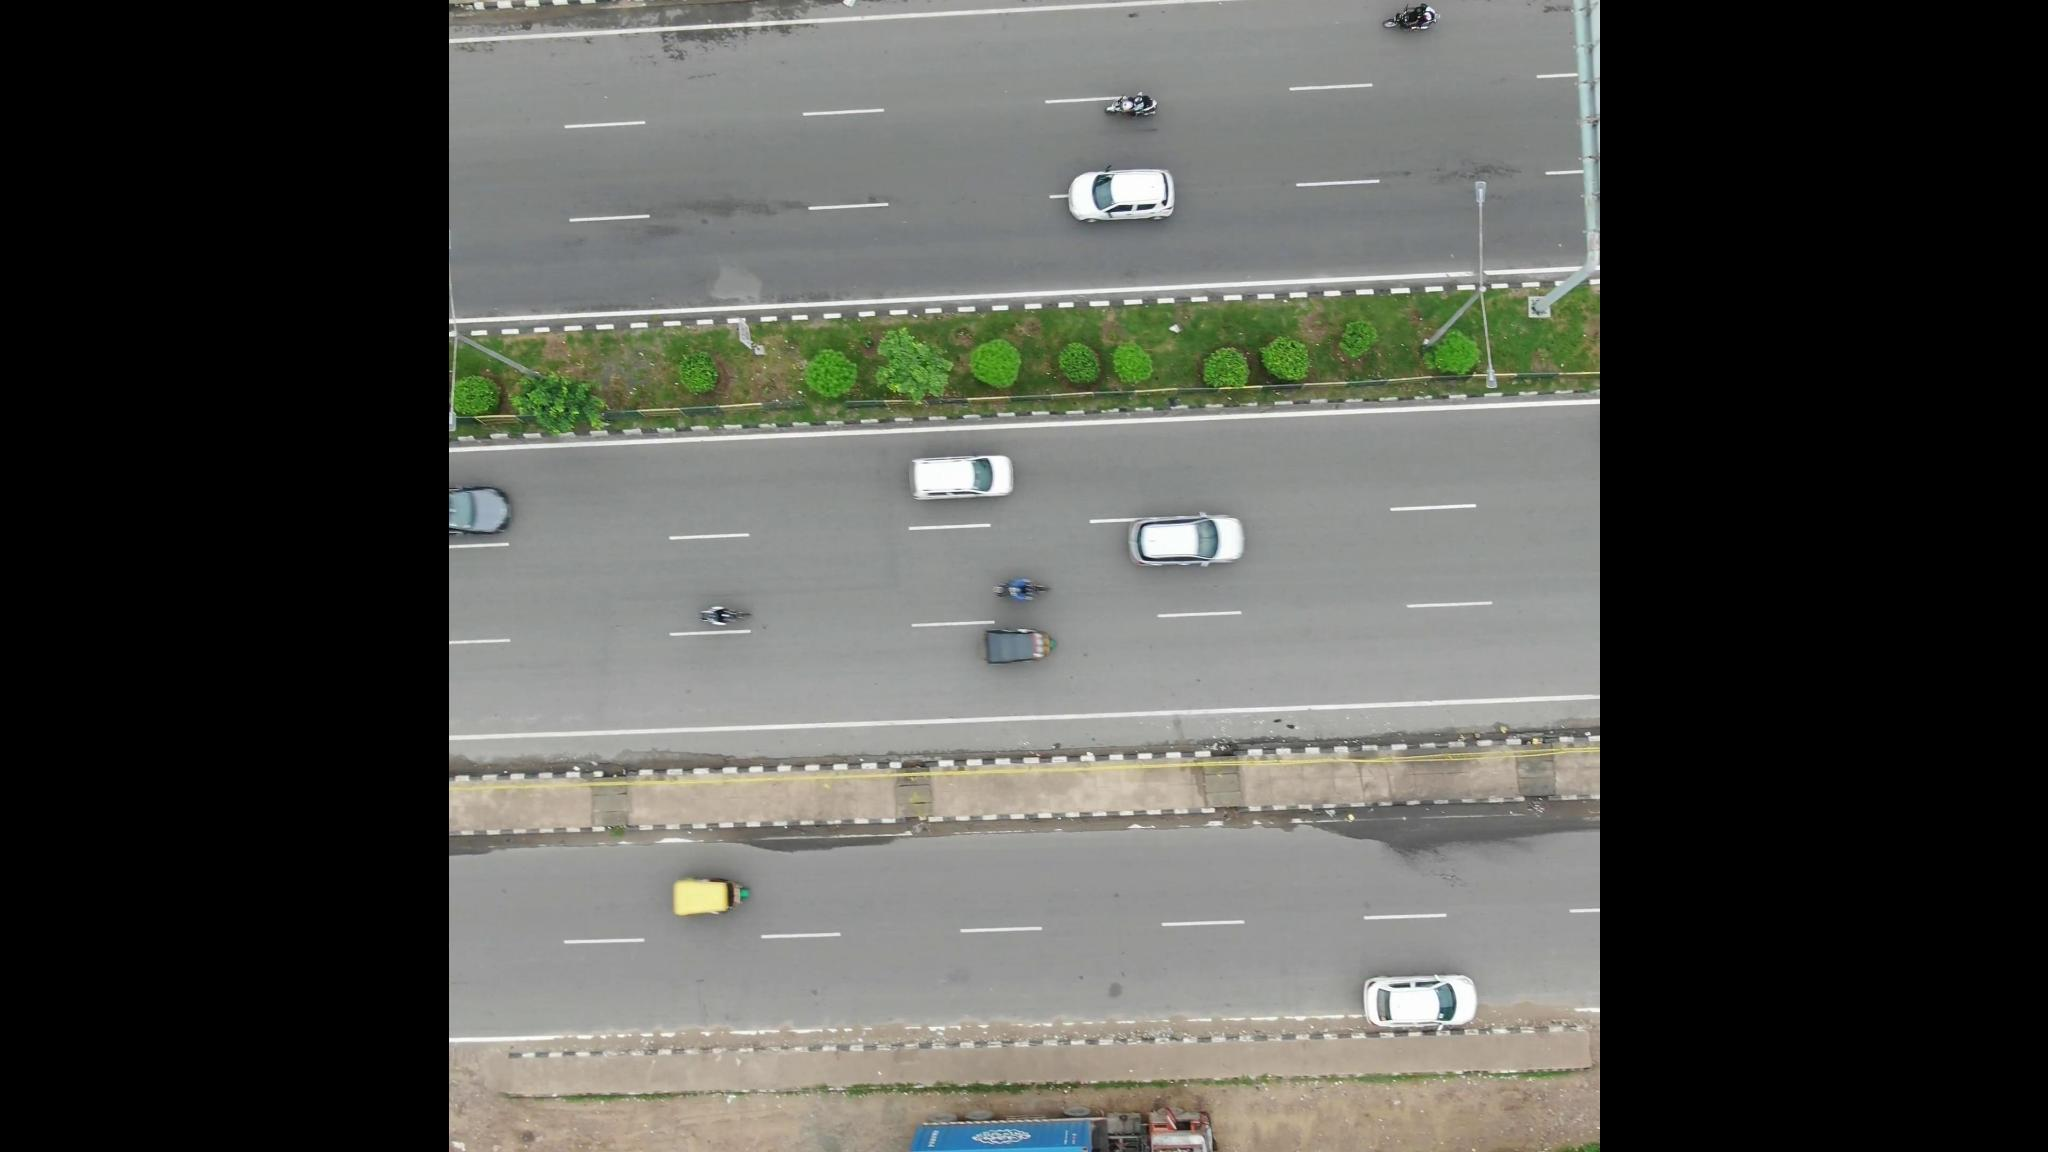Ravelling: (1402, 129, 1518, 205)
